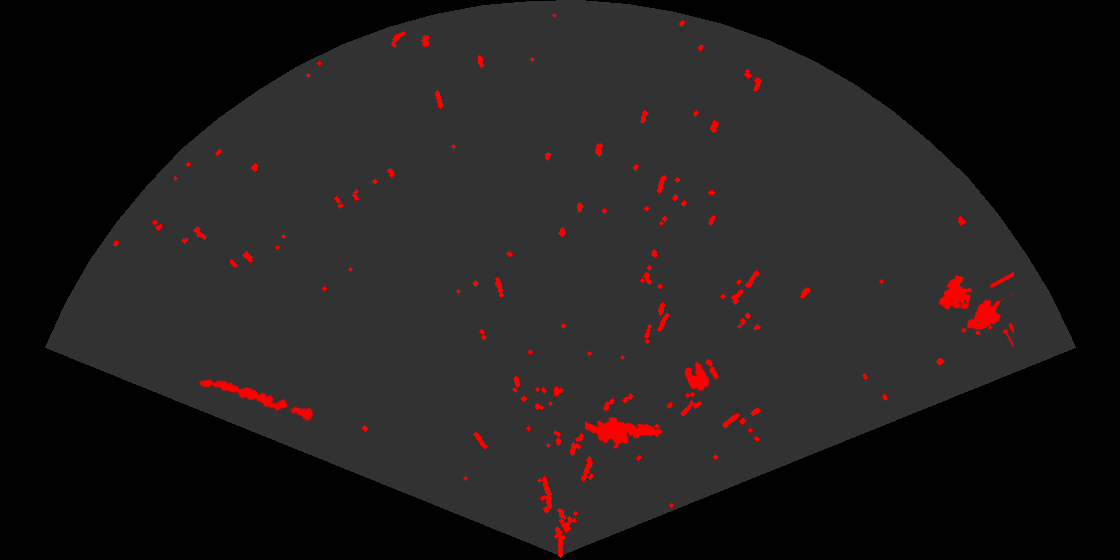ball: (683, 357, 720, 393)
cage: (937, 270, 1014, 349)
chain: (197, 377, 316, 423)
frogman: (585, 415, 664, 450)
